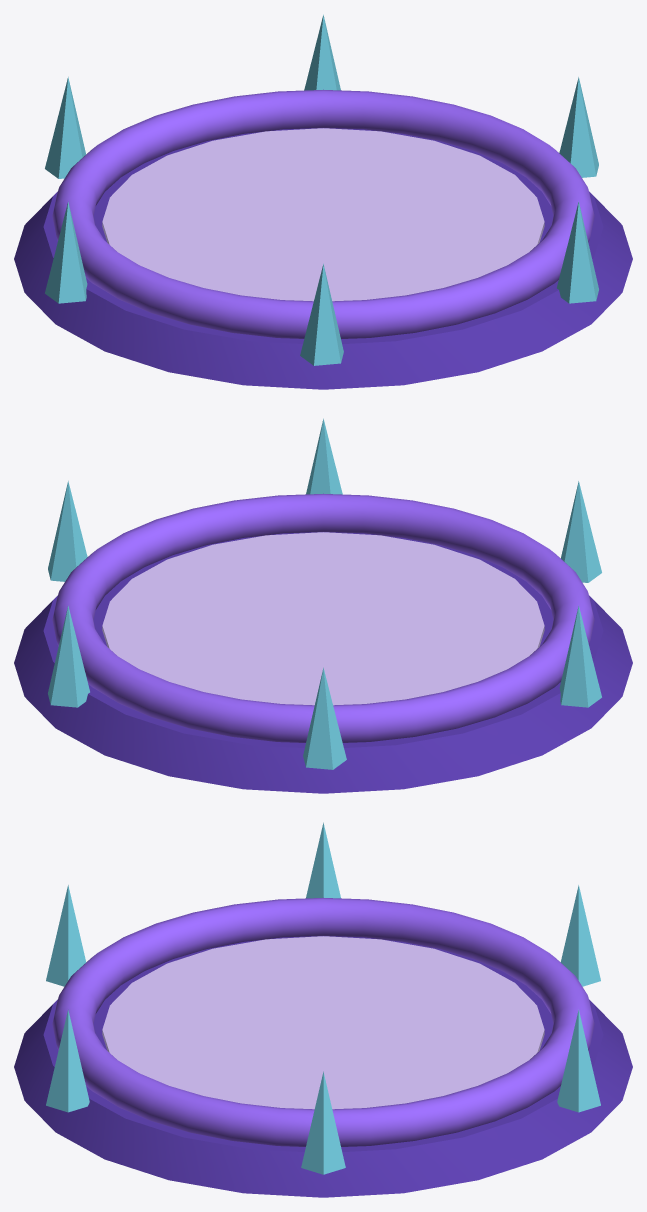
File: Spawn_Portal.obj
The picture shows the model from 3 angles, top to bottom: view 1: azimuth 30°, elevation 25°; view 2: azimuth 150°, elevation 25°; view 3: azimuth 270°, elevation 25°; orthographic projection.
Visible parts, largest first — view 1: Spawn_Portal; view 2: Spawn_Portal; view 3: Spawn_Portal.
Boxes of the visible parts, <box> form: Spawn_Portal: <box>14,14,632,389</box>; Spawn_Portal: <box>14,418,632,793</box>; Spawn_Portal: <box>14,822,632,1197</box>.
Bounding box in the file's own units: 2.14 × 0.45 × 2.1.
1 material, 1 textured.
